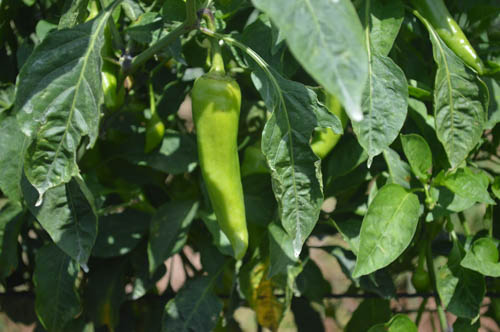ChiliPepper: (188, 76, 247, 258), (429, 13, 483, 71)
